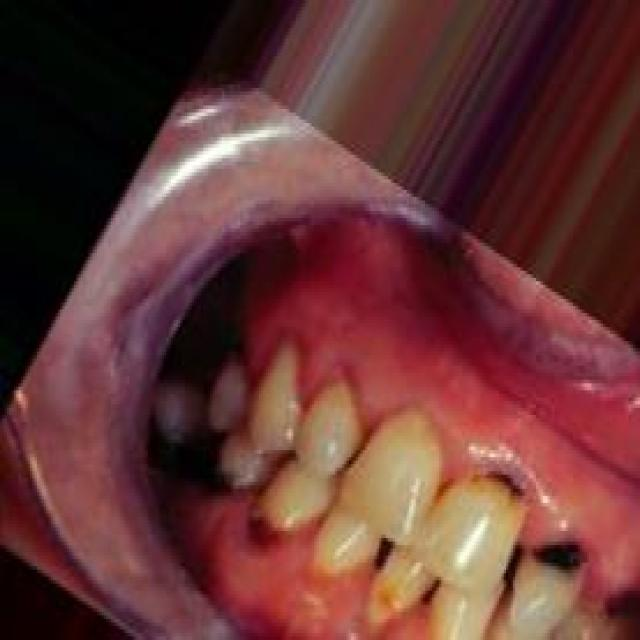caries: (519, 511, 593, 591), (472, 451, 532, 519), (235, 493, 286, 566), (601, 565, 640, 634)
